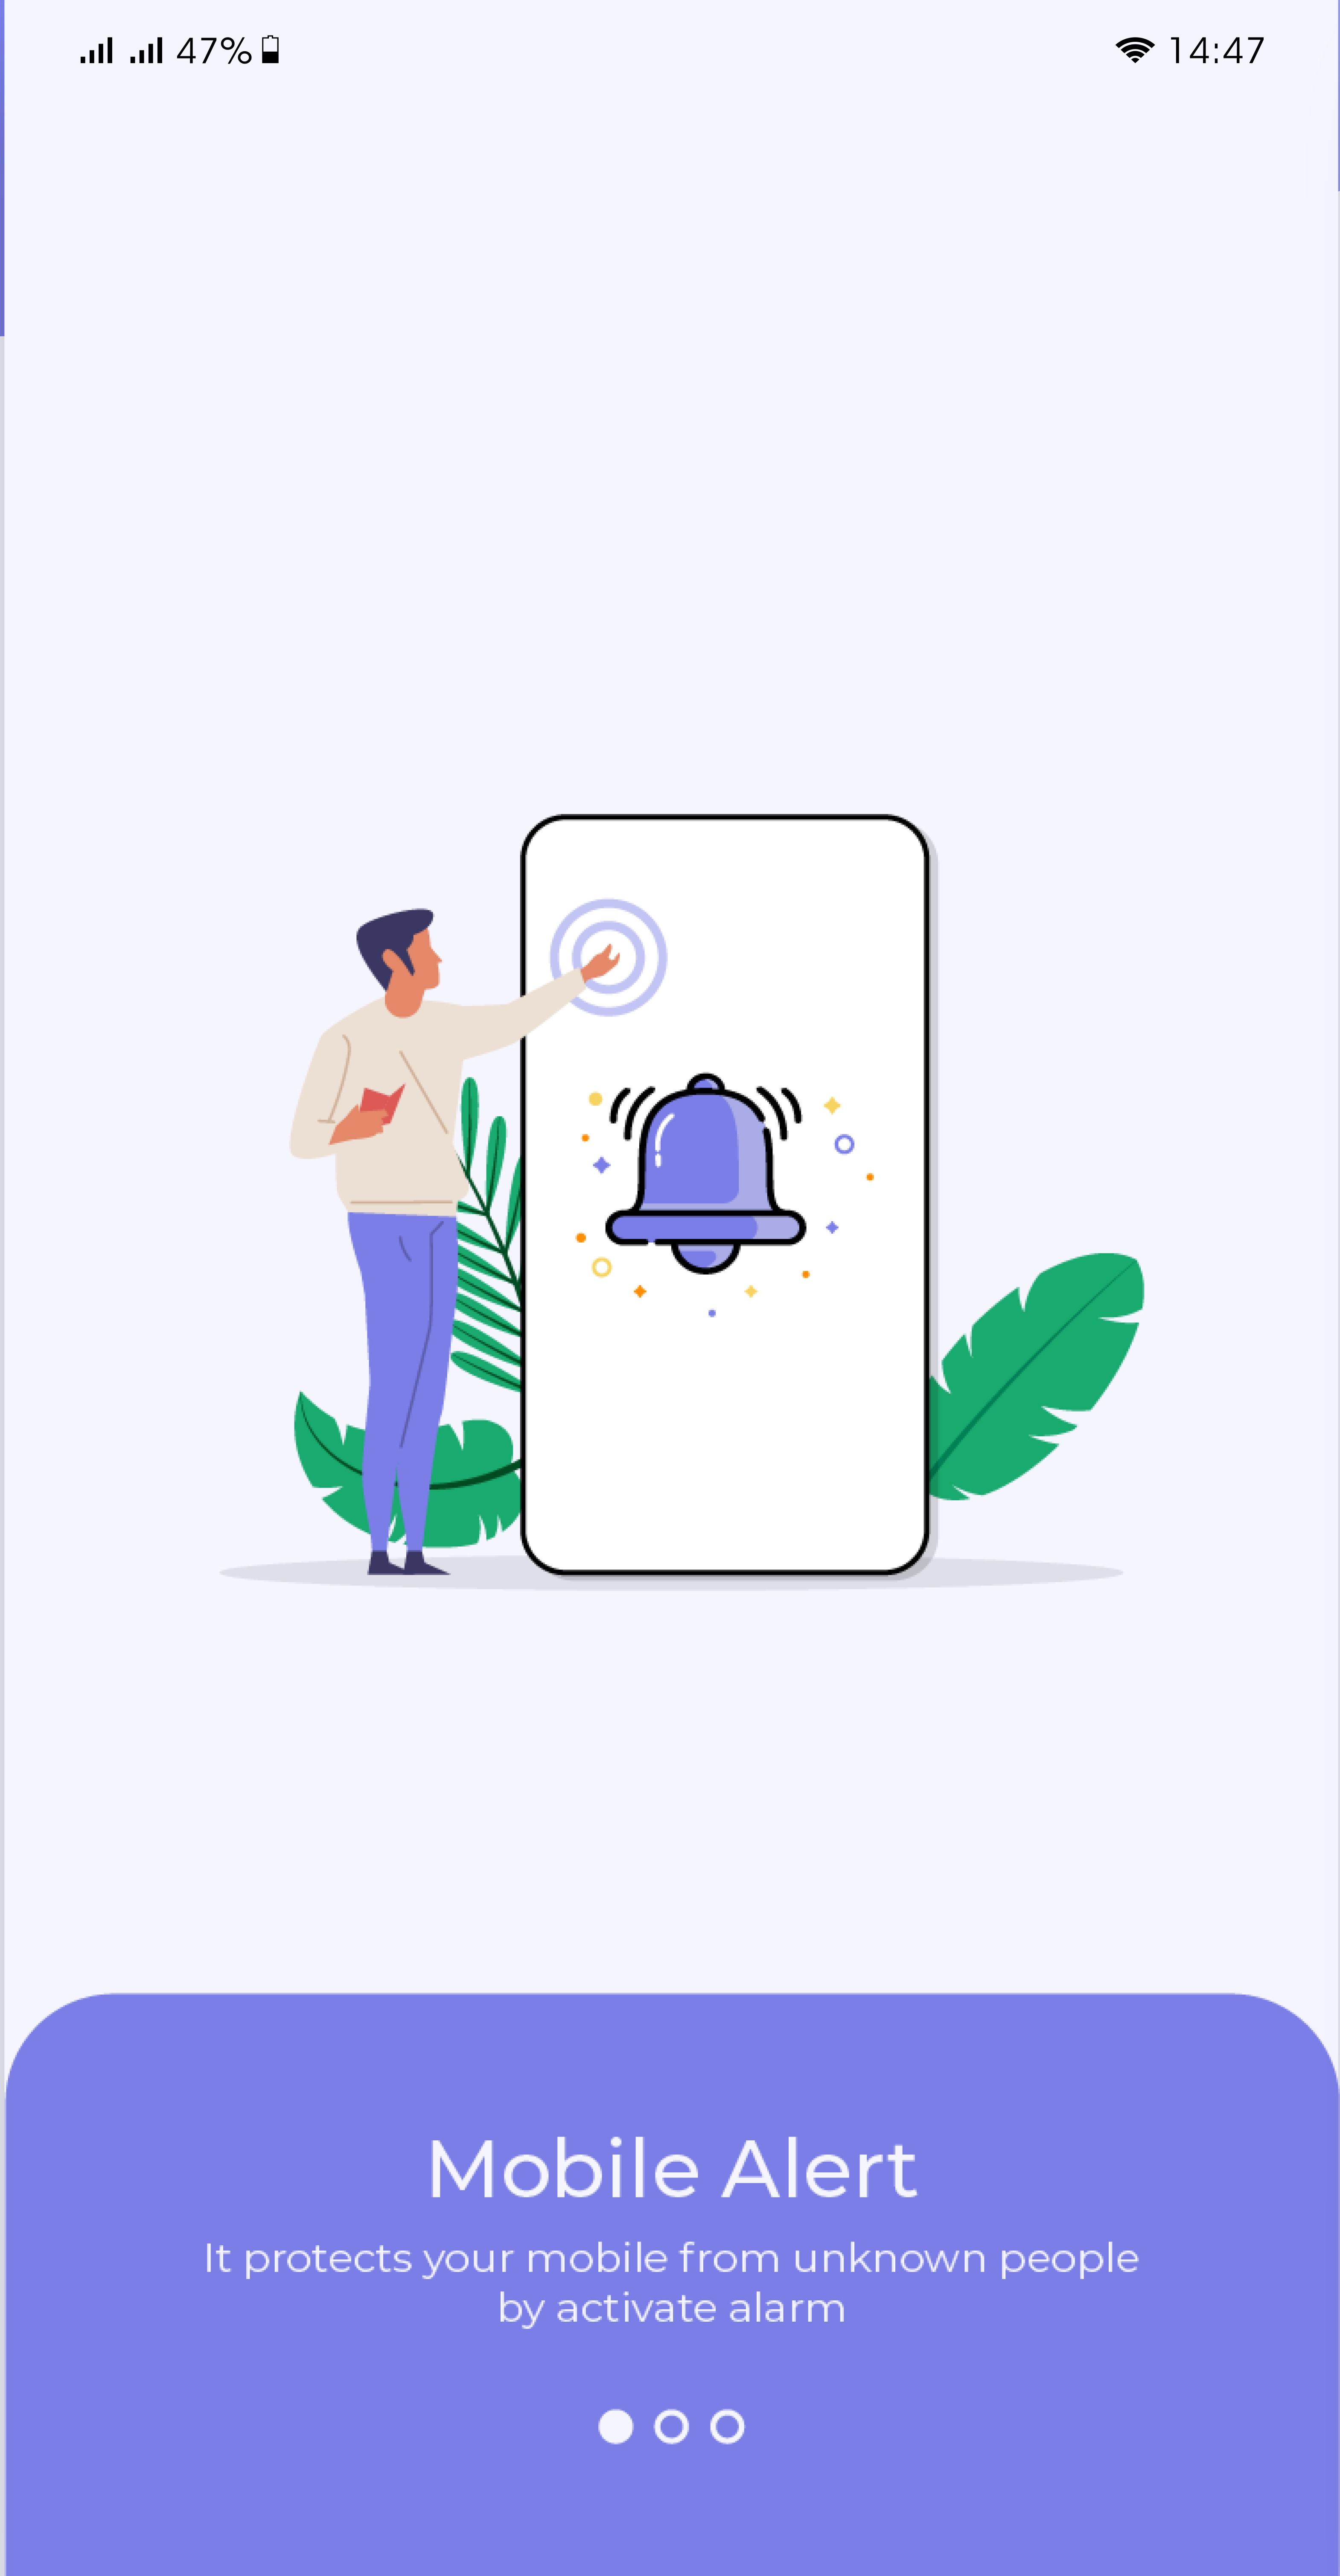Image: (217, 813, 1147, 1593)
PageIndicator: (597, 2407, 747, 2447)
Text: (206, 2240, 1141, 2331), (430, 2136, 919, 2199)
UpperTaskBar: (80, 34, 1265, 65)
